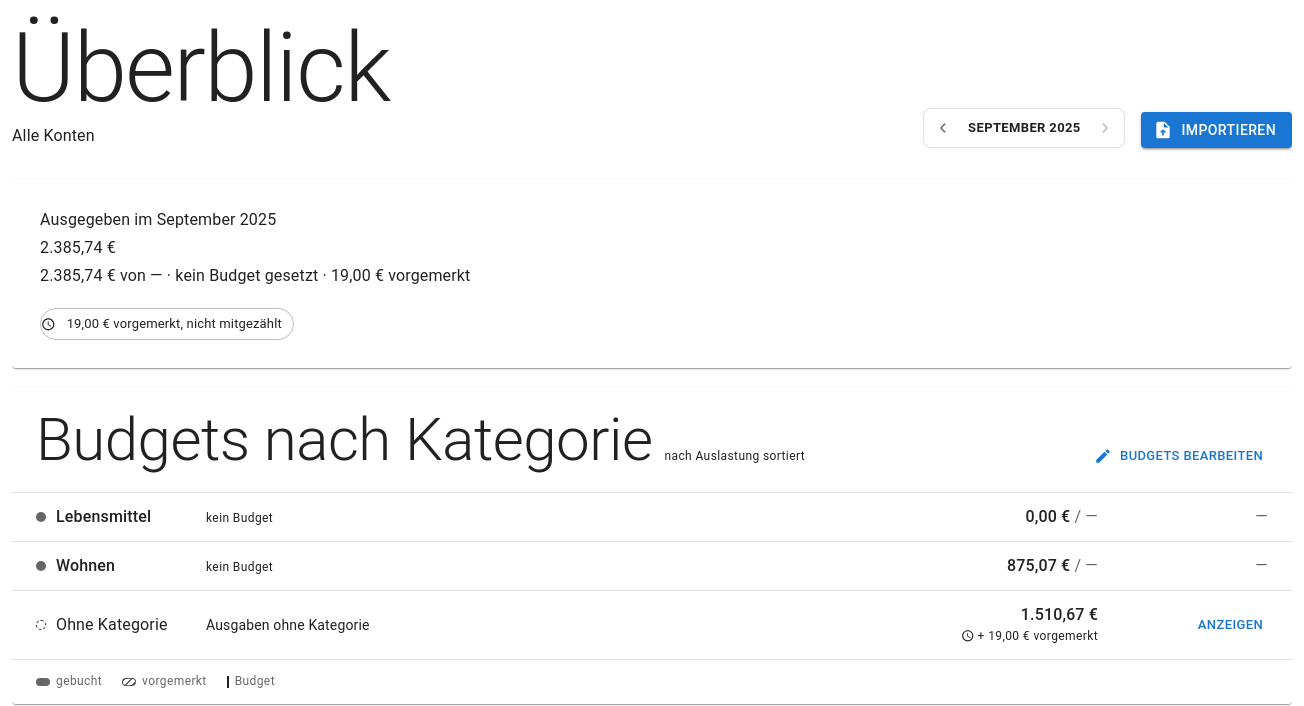
Test: OverviewPage › keeps a slow write in one month from locking the same category in another
This screenshot has width=1304, height=706.
Click the button "Budgets bearbeiten".
click(1180, 456)  # box 1091,441 -> 1268,472
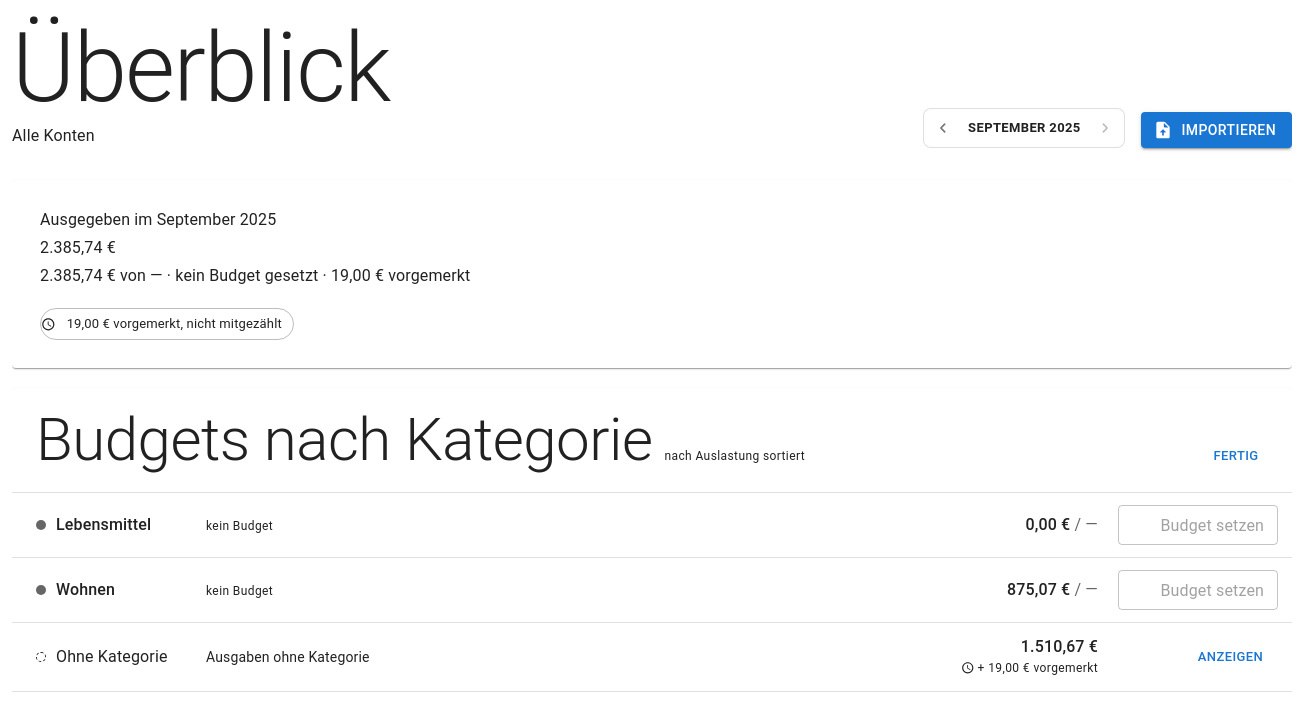
Check: the field named "Budget Wohnen" is shown
Type "700" into the field named "Budget Wohnen".
click(1198, 590); type("700")  # box 1118,570 -> 1278,610
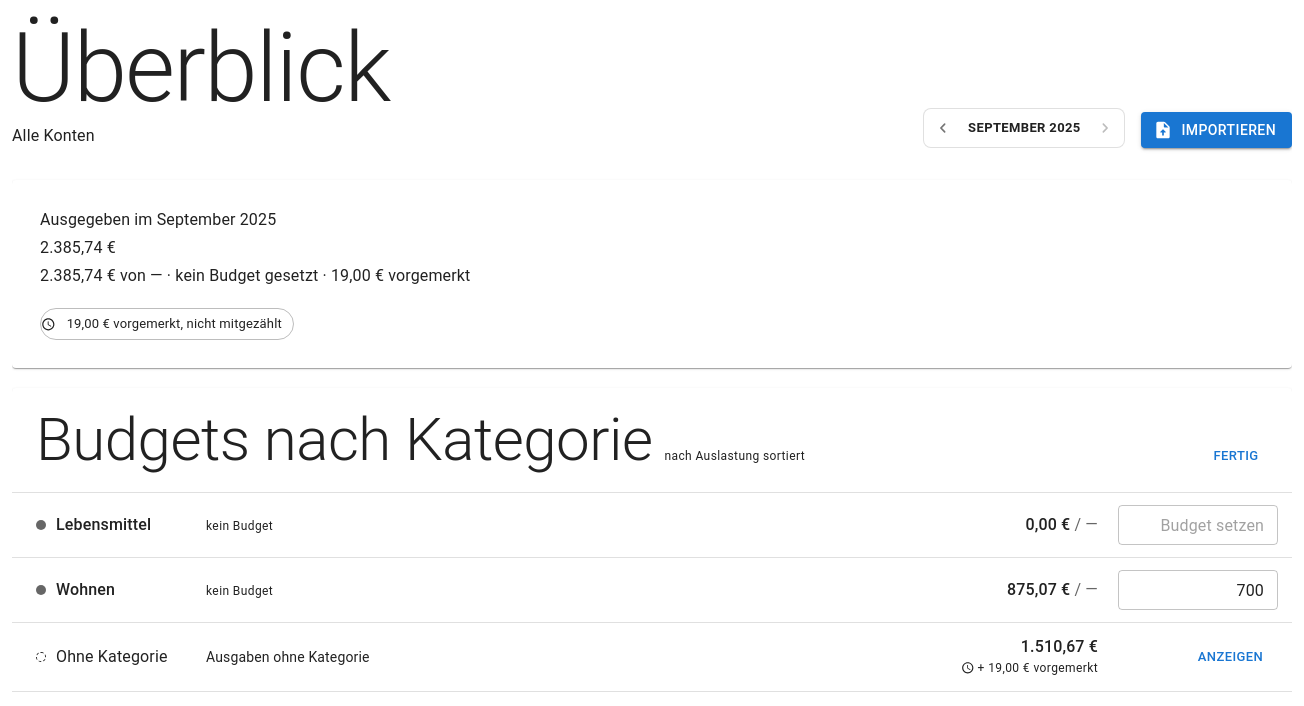
Leave the field named "Budget Wohnen", box 1118,570 -> 1278,610
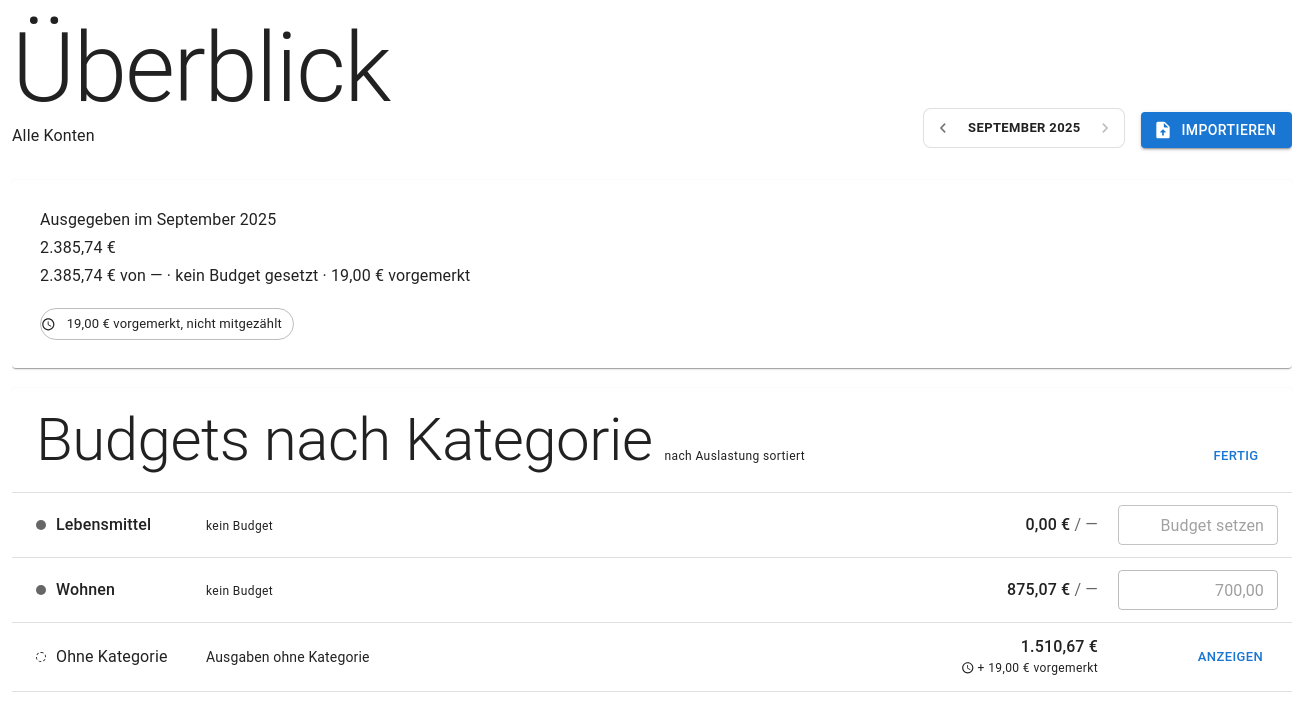
Check: the field named "Budget Wohnen" is disabled, box 1118,570 -> 1278,610
Click the button with aria-label "Monat wählen".
click(1024, 128)  # box 958,113 -> 1090,144
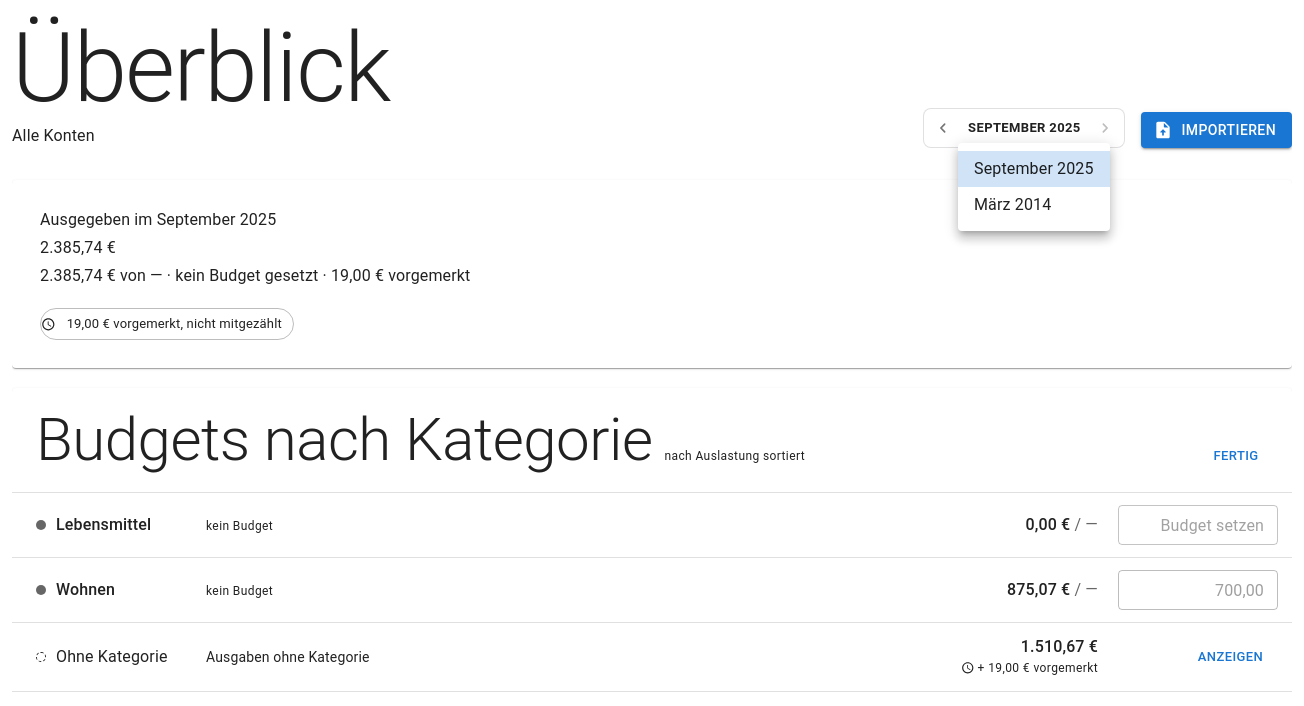
Click the menu item "März 2014".
click(1013, 204)  # box 974,195 -> 1051,214
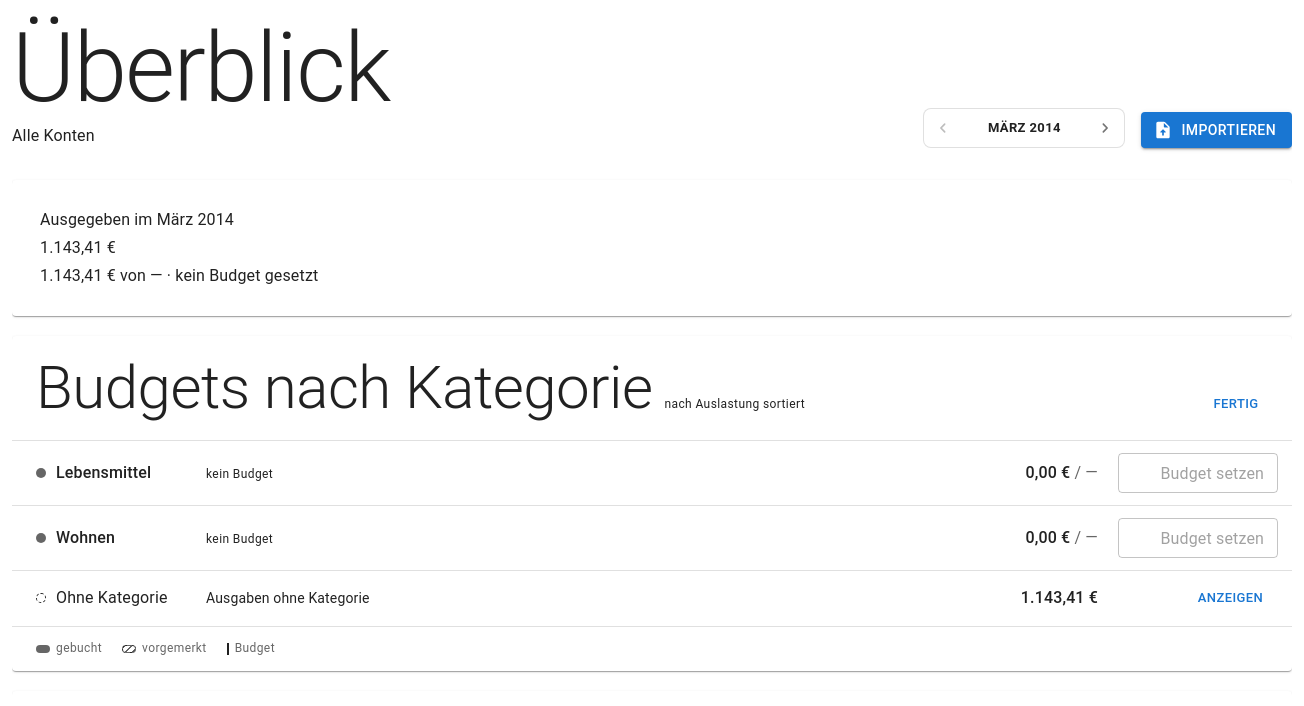
Check: the field named "Budget Wohnen" is enabled, box 1118,518 -> 1278,558
